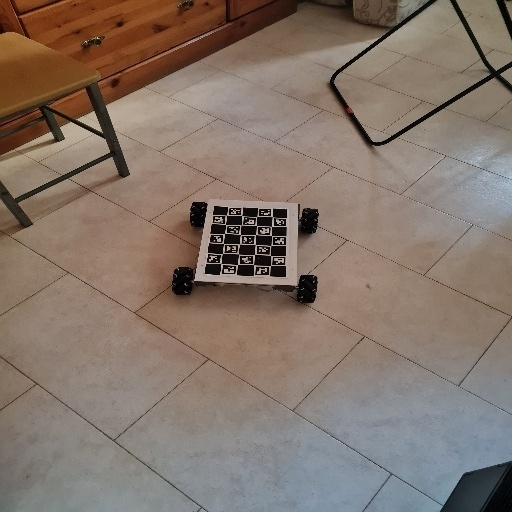Omniwheel: (172, 200, 322, 306)
